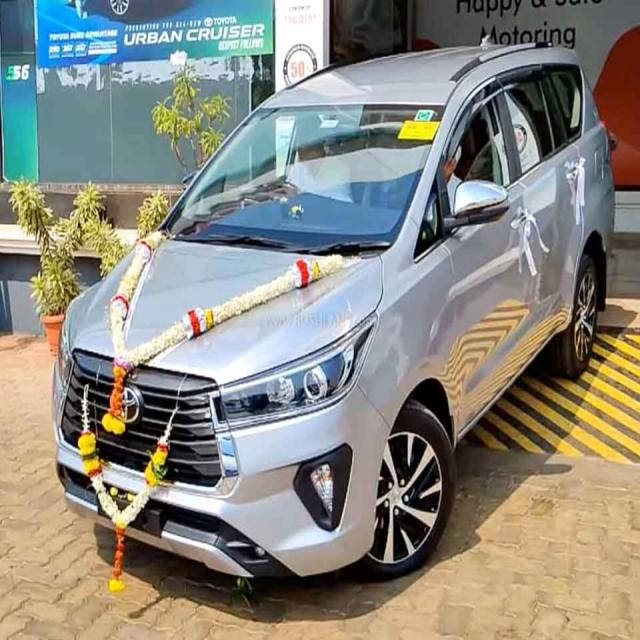light_vehicle: (50, 41, 619, 590)
